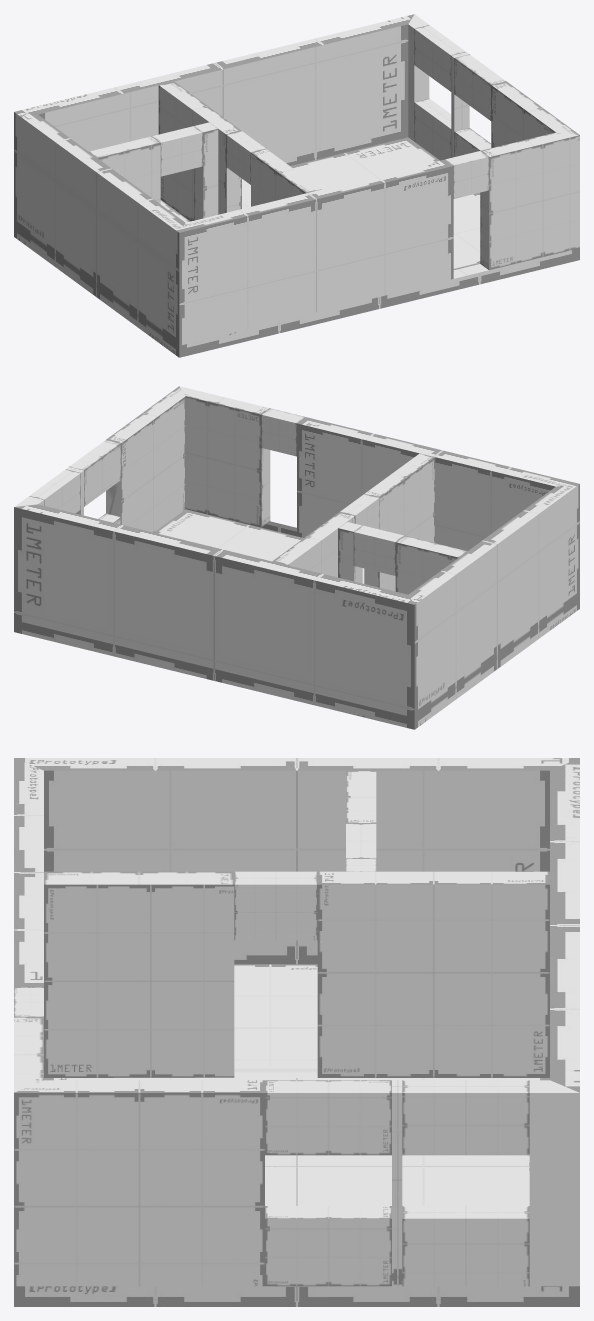
The model's file is gihousetest.glb.
3 renders of one model, top to bottom at view 1: azimuth 30°, elevation 25°; view 2: azimuth 150°, elevation 25°; view 3: azimuth 270°, elevation 25°, orthographic. The views are drawn at different scales.
Parts seen in each view (by area): view 1: Floor1.011, Floor1.001, Floor1.004, Floor1, Floor1.013, Floor1.005, Floor1.014, Floor1.010, Floor1.007, Floor1.006, Floor1.015, Floor1.018 (+7 smaller); view 2: Floor1.001, Floor1.004, Floor1.011, Floor1, Floor1.013, Floor1.014, Floor1.007, Floor1.010, Floor1.005, Floor1.015, Floor1.009, Floor1.012 (+3 smaller); view 3: Floor1.004, Floor1.014, Floor1.005, Floor1.007, Floor1, Floor1.019, Floor1.020, Floor1.016, Floor1.018, Floor1.001, Floor1.015, Floor1.011 (+6 smaller).
Part boxes in pixels (x1,y1,x2,y2): Floor1.011: (179, 159, 453, 345); Floor1.001: (14, 14, 414, 165); Floor1.004: (14, 112, 185, 345); Floor1: (14, 137, 579, 357); Floor1.013: (480, 132, 579, 270); Floor1.005: (158, 81, 241, 221); Floor1.014: (491, 81, 579, 147); Floor1.010: (89, 136, 160, 203); Floor1.007: (251, 149, 321, 206); Floor1.006: (194, 122, 218, 220); Floor1.015: (454, 54, 506, 120); Floor1.018: (414, 25, 465, 91); Floor1.001: (14, 504, 414, 717); Floor1.004: (408, 484, 579, 717); Floor1.011: (297, 417, 579, 550); Floor1: (14, 509, 579, 729); Floor1.013: (179, 386, 270, 527); Floor1.014: (106, 386, 185, 532); Floor1.007: (364, 453, 435, 591); Floor1.010: (395, 536, 467, 594); Floor1.005: (272, 512, 355, 577); Floor1.015: (69, 440, 121, 506); Floor1.009: (353, 525, 404, 575); Floor1.012: (261, 408, 304, 456); Floor1.004: (14, 758, 579, 964); Floor1.014: (14, 1080, 264, 1286); Floor1.005: (317, 871, 549, 1077); Floor1.007: (44, 871, 234, 1077); Floor1: (14, 964, 579, 1306); Floor1.019: (402, 1206, 529, 1286); Floor1.020: (529, 1080, 579, 1286); Floor1.016: (265, 1206, 391, 1286); Floor1.018: (402, 1080, 529, 1155); Floor1.001: (550, 758, 579, 1092); Floor1.015: (265, 1080, 391, 1155); Floor1.011: (14, 758, 43, 987).
Bounding box in the file's own units: 14 × 4.17 × 10.
1 material, 1 textured.
